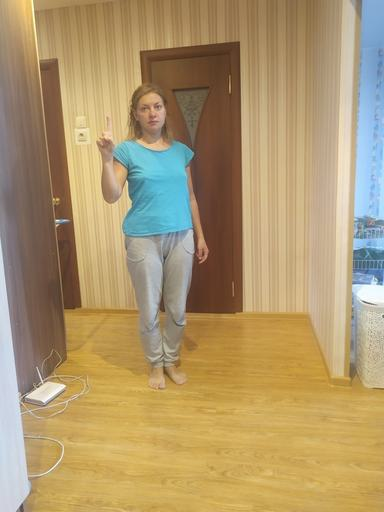one: (94, 114, 117, 158)
